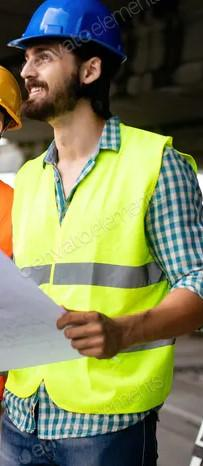hat: (1, 1, 151, 137), (1, 50, 31, 150)
vest: (1, 117, 202, 426)
